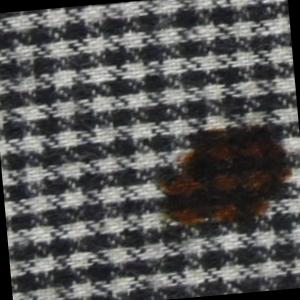Oil Stain: (145, 117, 299, 241)
